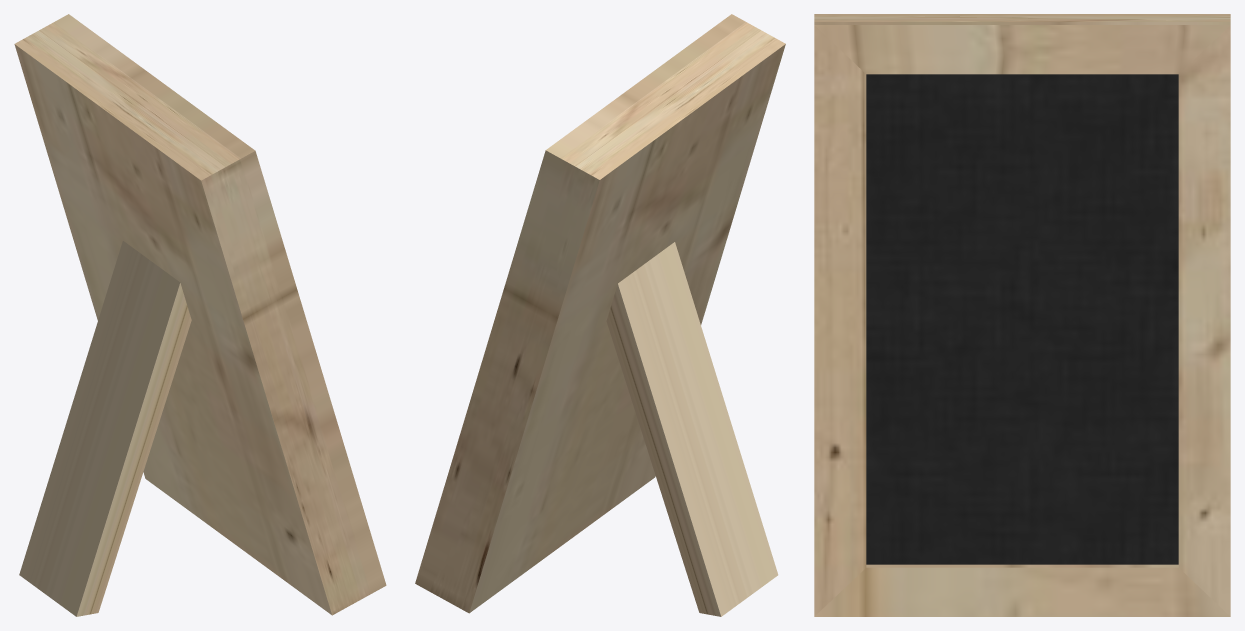
The model's file is fotoframe.fbx.
3 renders of one model, left to right at view 1: azimuth 30°, elevation 25°; view 2: azimuth 150°, elevation 25°; view 3: azimuth 270°, elevation 25°, orthographic. The views are drawn at different scales.
Parts seen in each view (by area): view 1: Cube; view 2: Cube; view 3: Cube.
Boxes of the visible parts, x1,y1,x2,y2 form: Cube: (14, 14, 386, 616); Cube: (415, 14, 785, 616); Cube: (814, 14, 1230, 616).
Bounding box in the file's own units: 395 × 756 × 524.
1 material, 1 textured.
